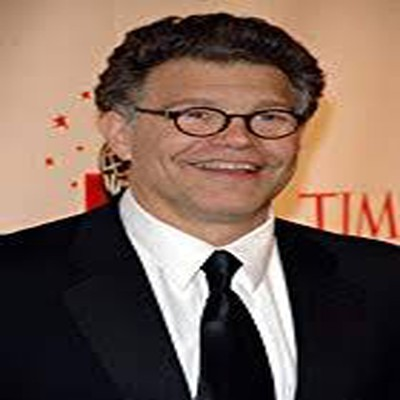eywear: (130, 89, 328, 169)
